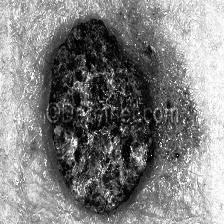Benign Marking or Mole: (48, 18, 200, 218)
